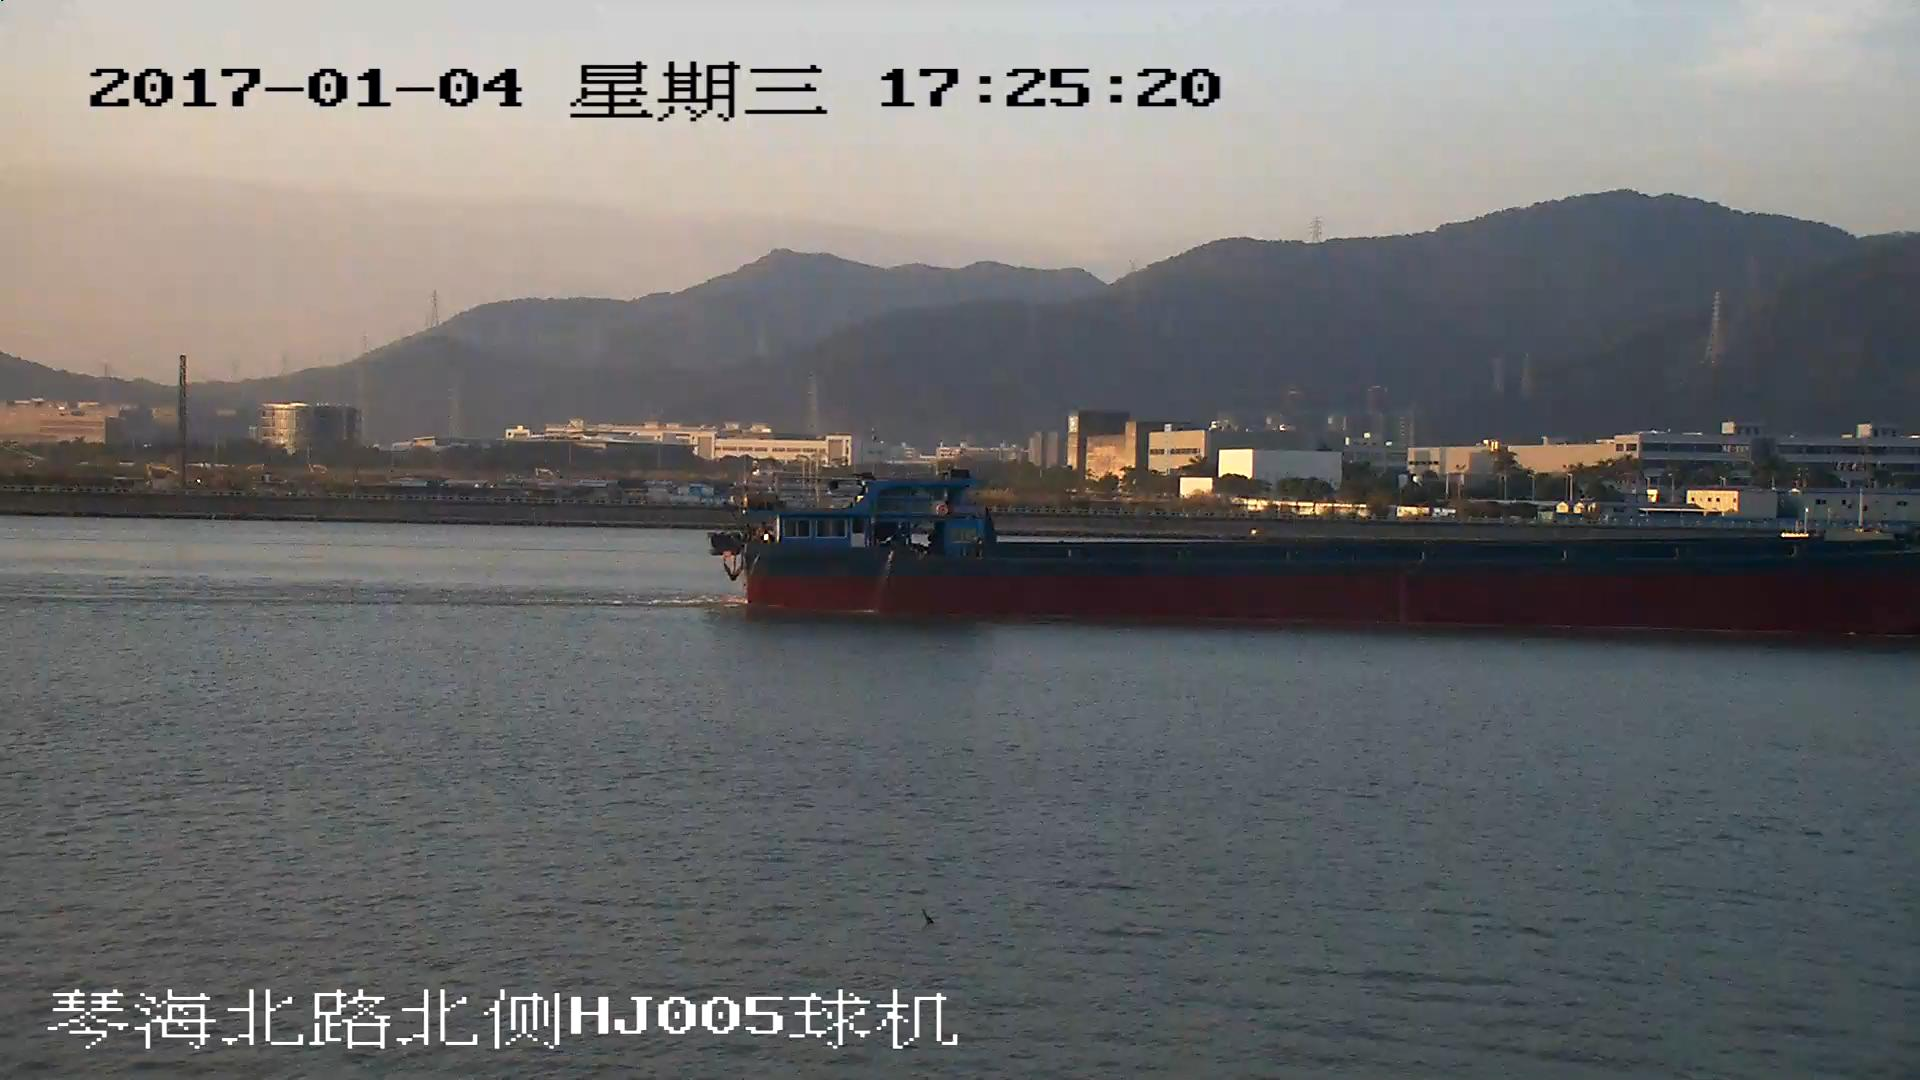general cargo ship: (710, 474, 1920, 639)
